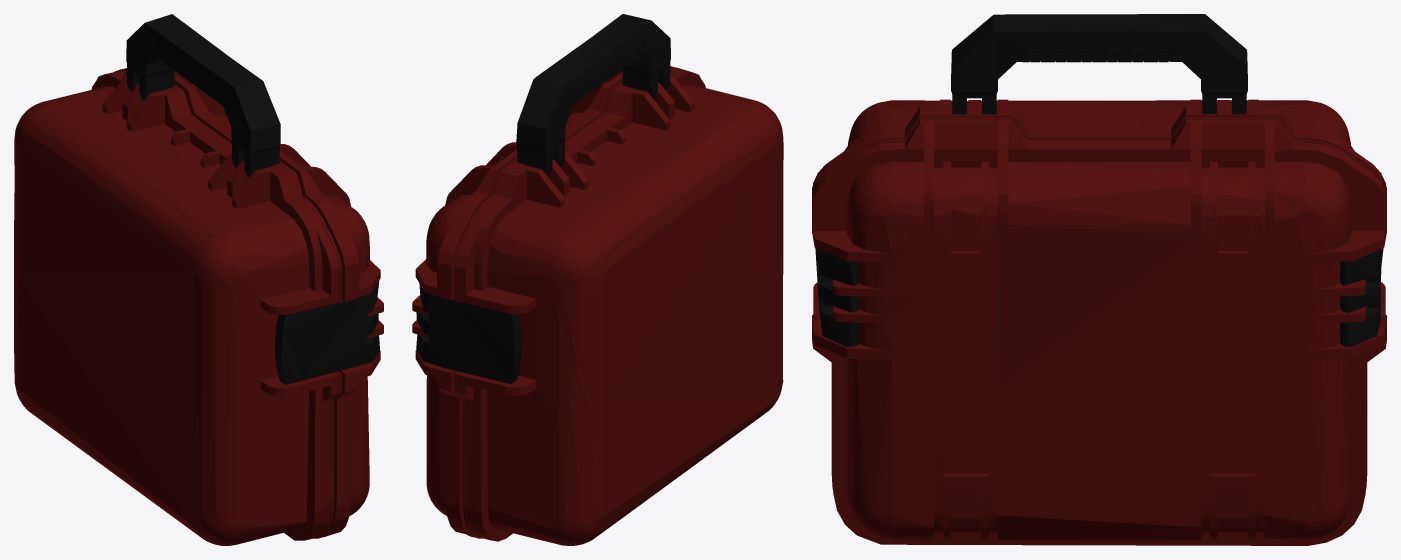
The model's file is Toolkit.fbx.
3 renders of one model, left to right at view 1: azimuth 30°, elevation 25°; view 2: azimuth 150°, elevation 25°; view 3: azimuth 270°, elevation 25°, orthographic. The views are drawn at different scales.
Visible parts, largest first — view 1: Box; view 2: Box; view 3: Box.
Part boxes in pixels (x1,y1,x2,y2): Box: [14, 14, 383, 545]; Box: [412, 14, 783, 545]; Box: [812, 14, 1386, 545].
Bounding box in the file's own units: 32.17 × 76.1 × 78.26.
